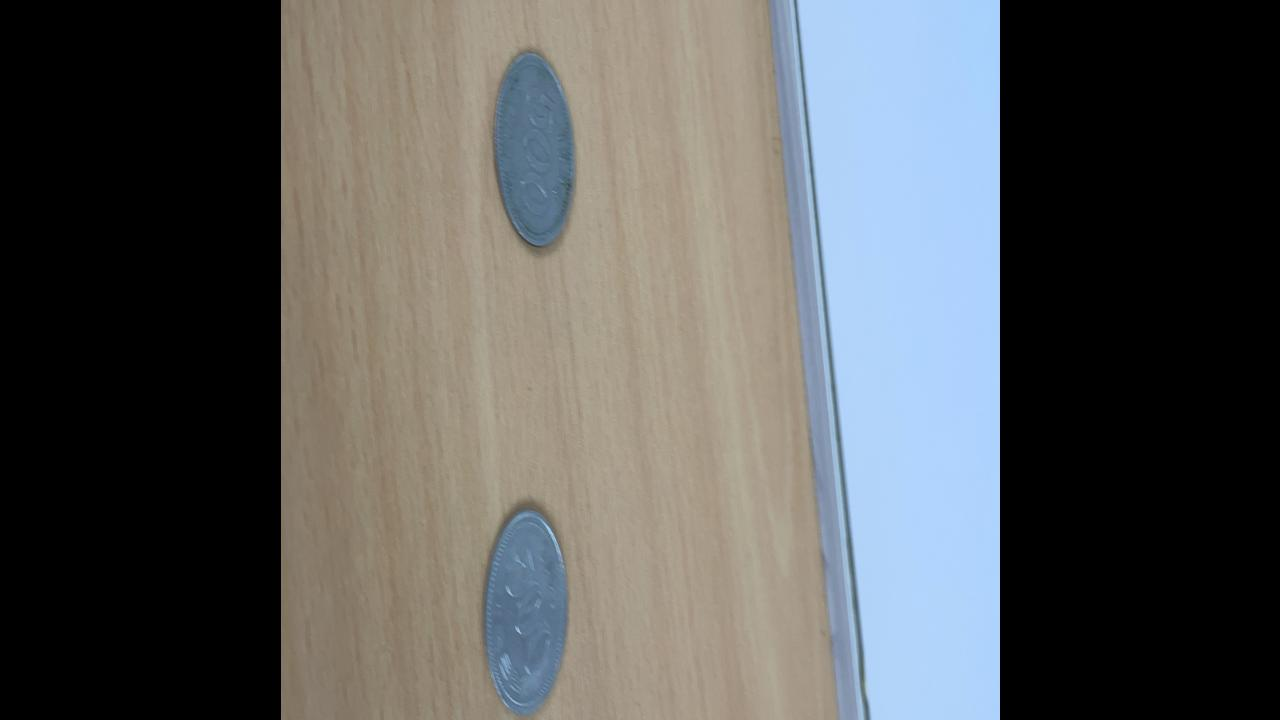coin: (490, 46, 576, 256), (484, 507, 566, 715)
